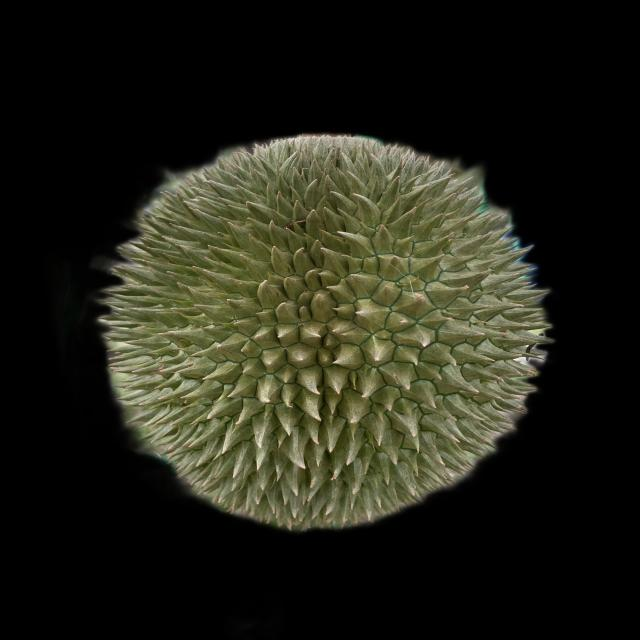immature: (98, 133, 550, 530)
